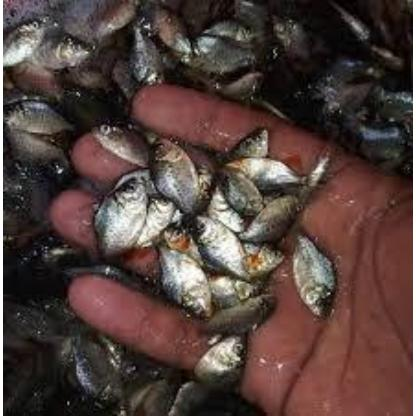ikan-pacu: (92, 177, 152, 258), (290, 230, 332, 316)
